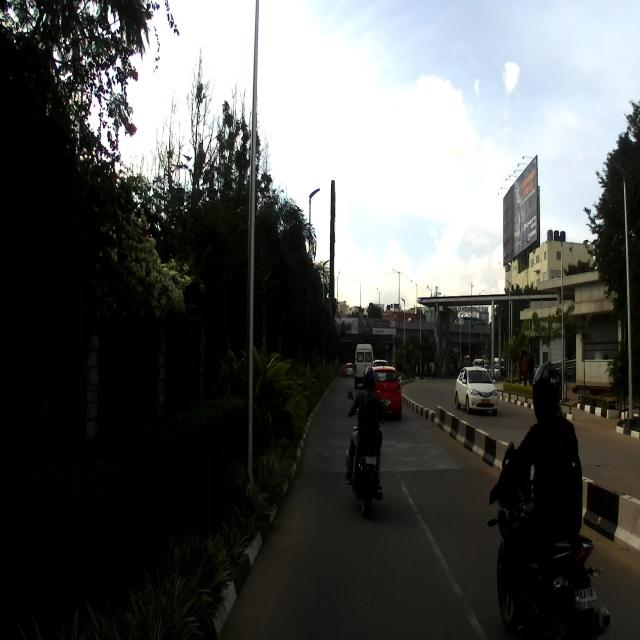motorcycle_RoyalEnfield: (345, 390, 392, 514)
motorcycle_bajaj: (487, 429, 612, 636)
